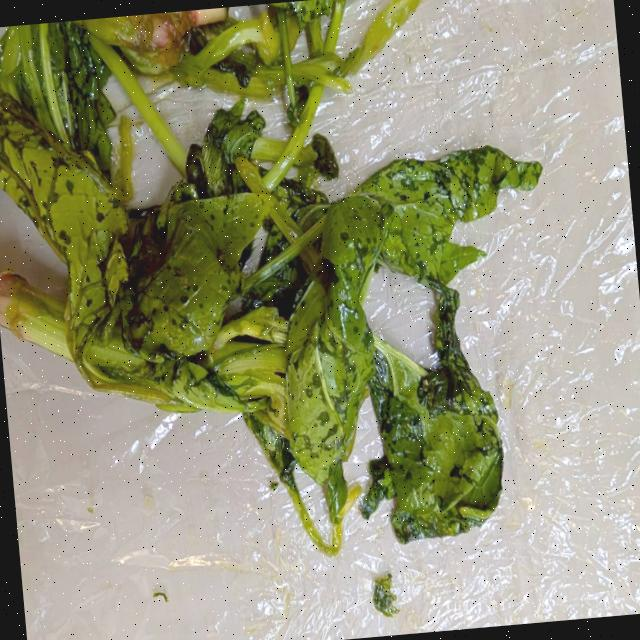rotten spinach: (0, 0, 560, 573), (204, 93, 576, 349), (0, 110, 266, 459), (0, 0, 445, 177), (278, 262, 504, 580), (186, 184, 388, 538)
